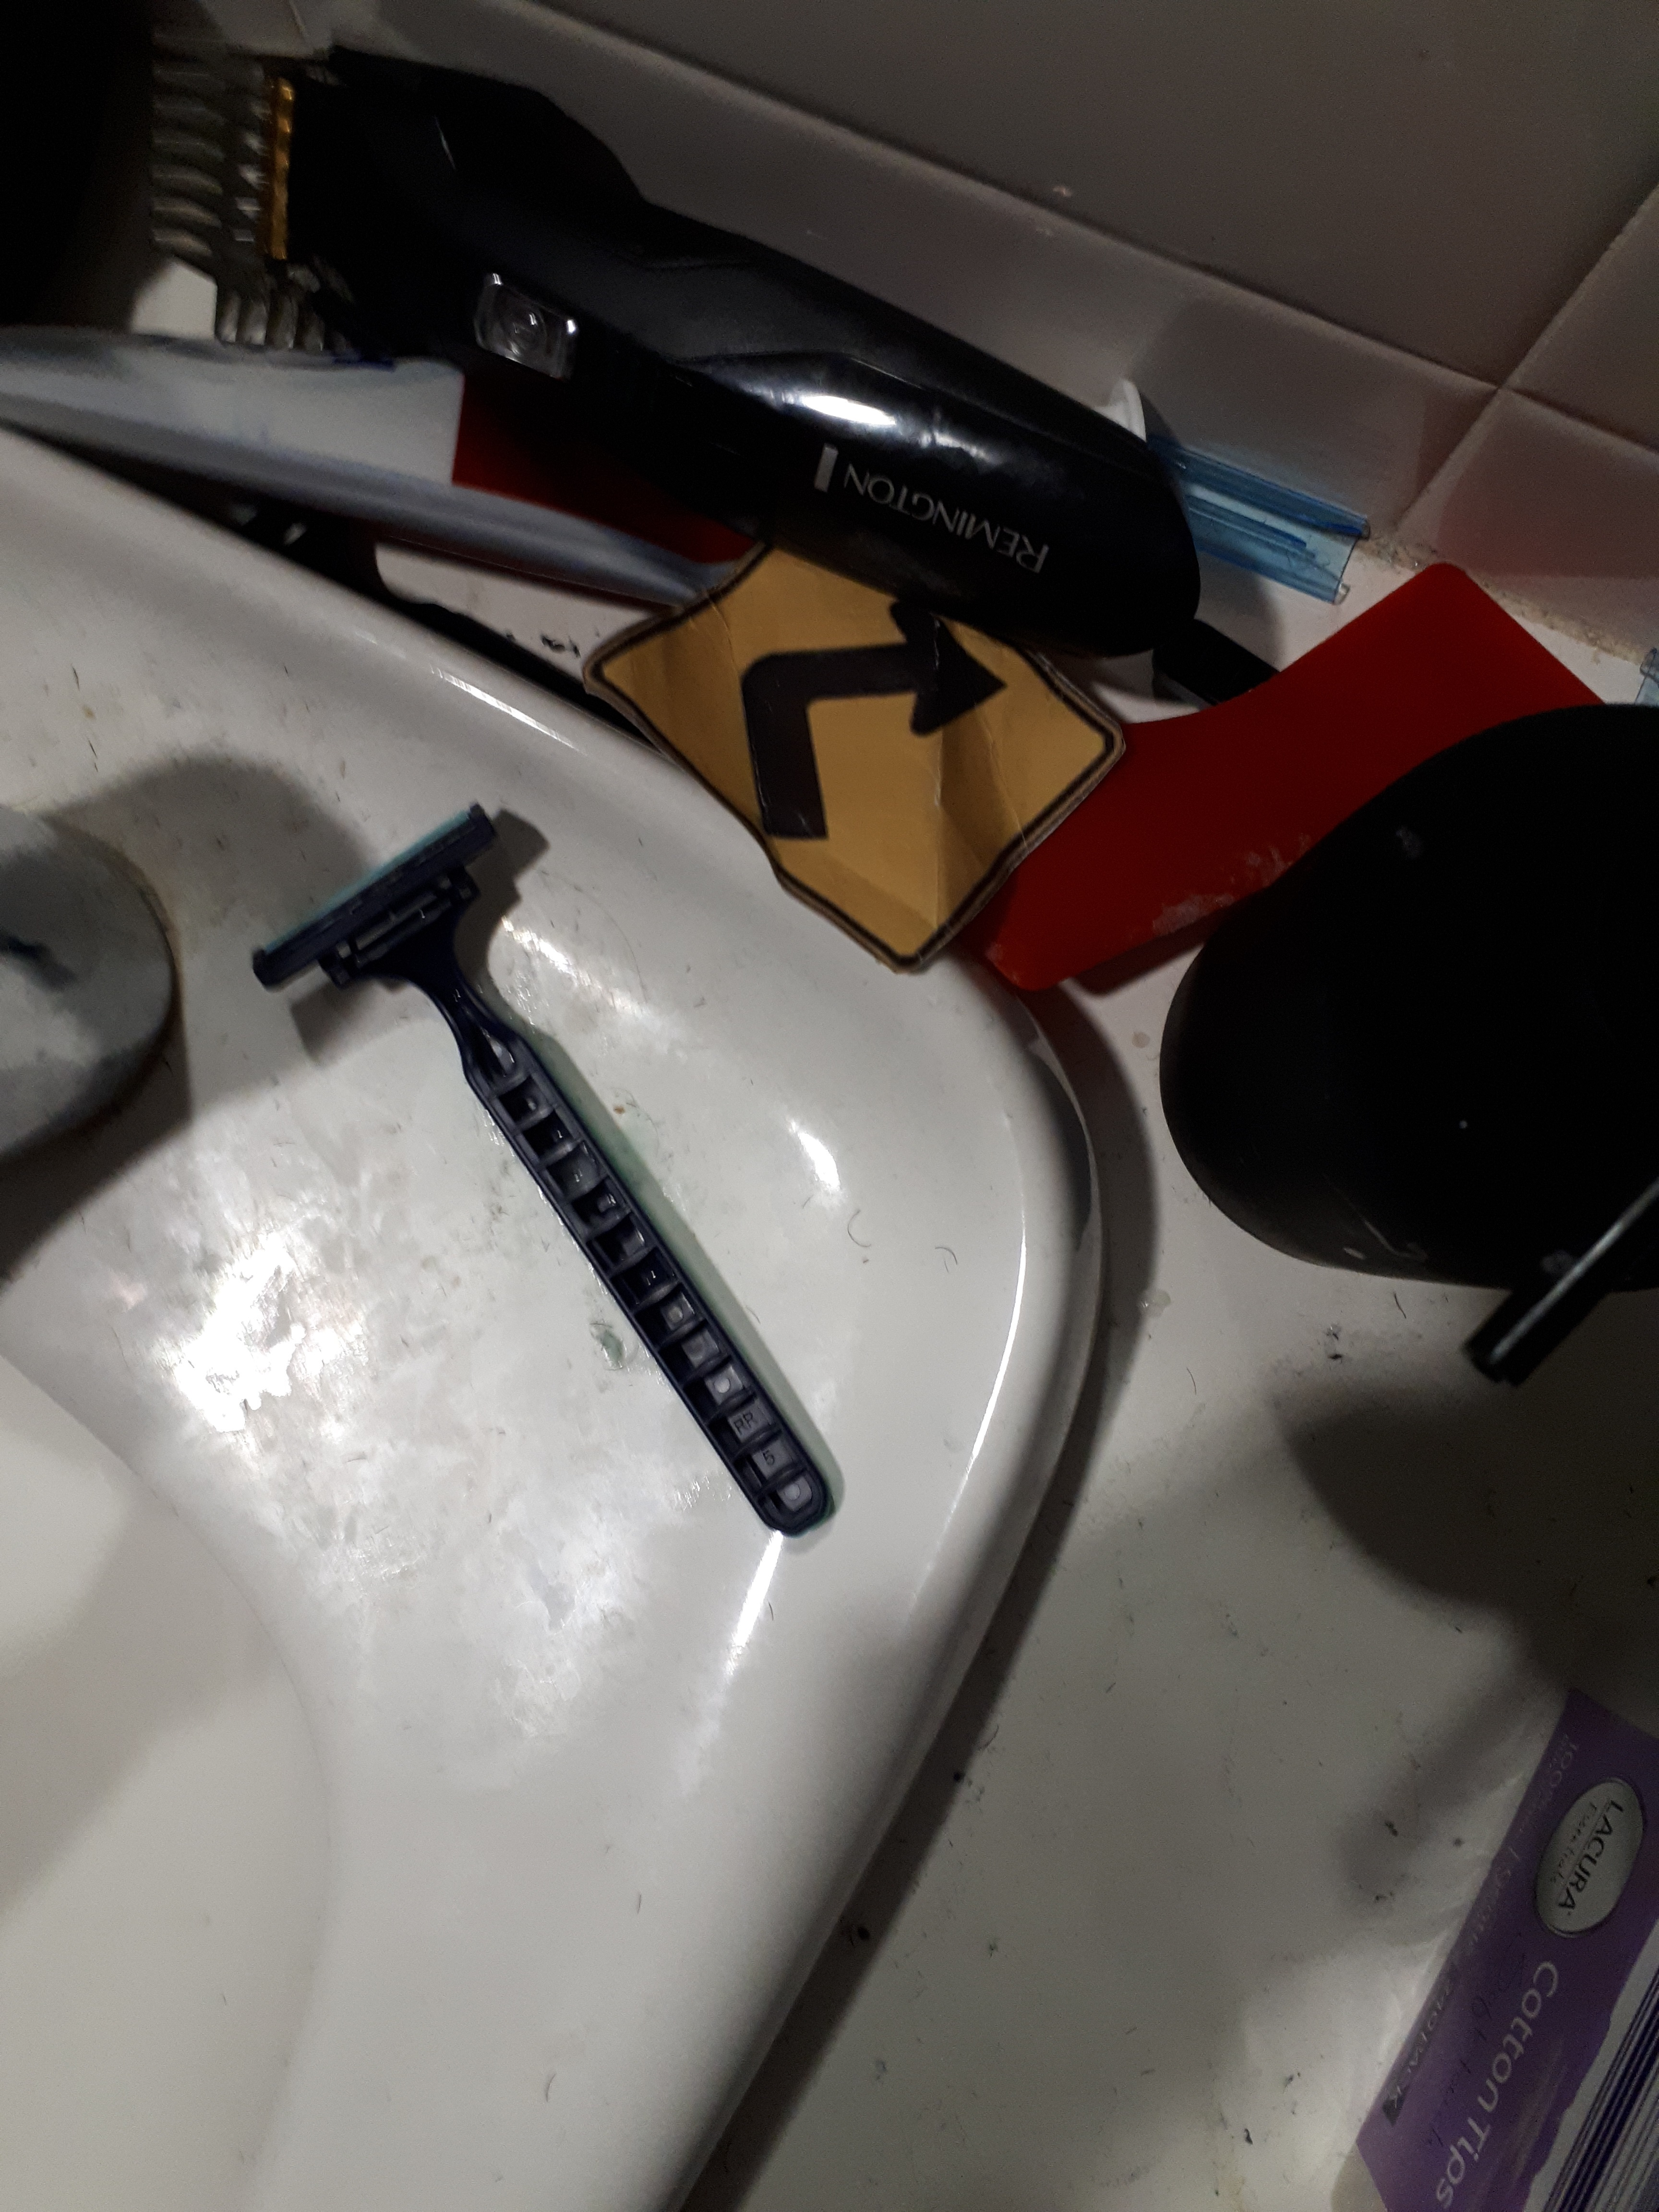right: (587, 502, 1227, 975), (680, 568, 1047, 883)
